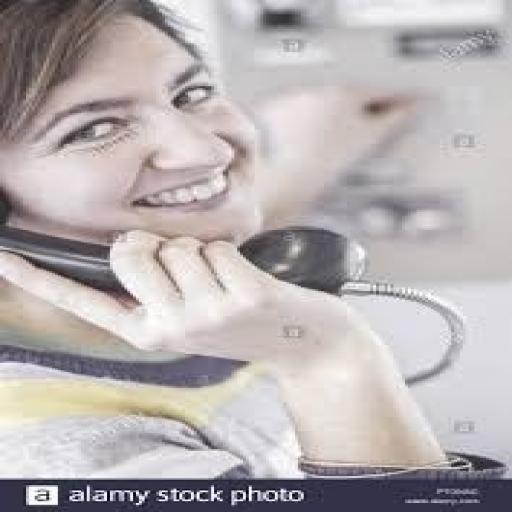calling: (0, 0, 454, 478)
